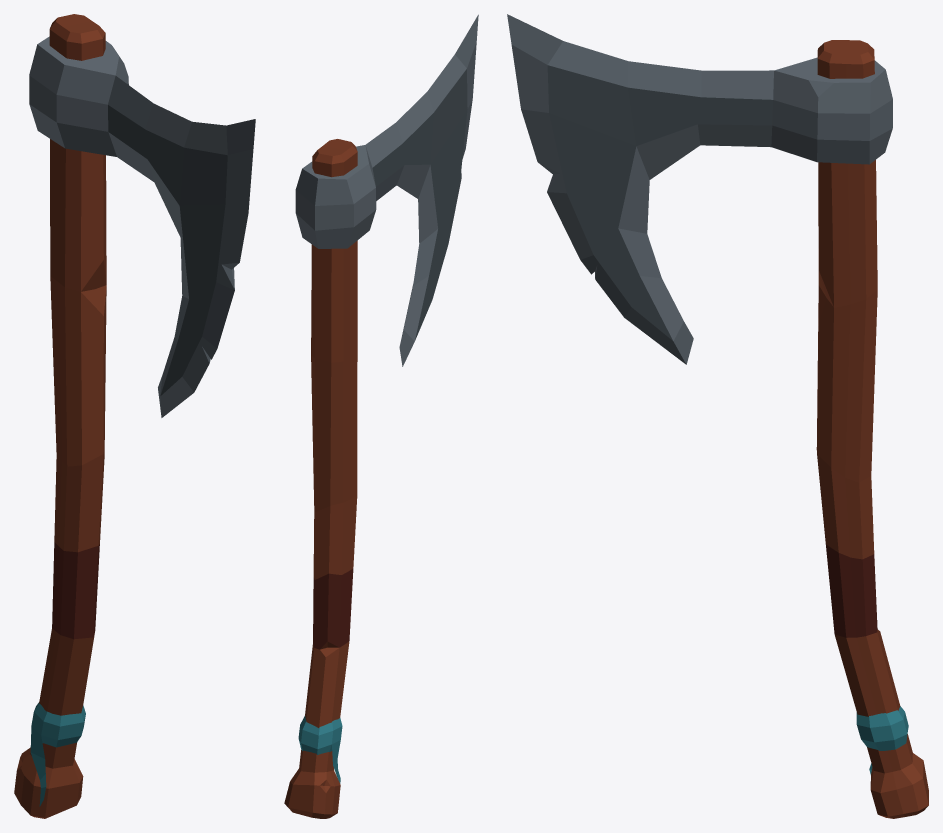
Rendered from axe.fbx.
3 renders of one model, left to right at view 1: azimuth 30°, elevation 25°; view 2: azimuth 150°, elevation 25°; view 3: azimuth 270°, elevation 25°, orthographic. The views are drawn at different scales.
Parts seen in each view (by area): view 1: axe; view 2: axe; view 3: axe.
Boxes of the visible parts, <box> form: axe: <box>14,14,255,818</box>; axe: <box>284,14,478,818</box>; axe: <box>507,14,928,818</box>.
Bounding box in the file's own units: 4.93 × 54.89 × 26.14.
